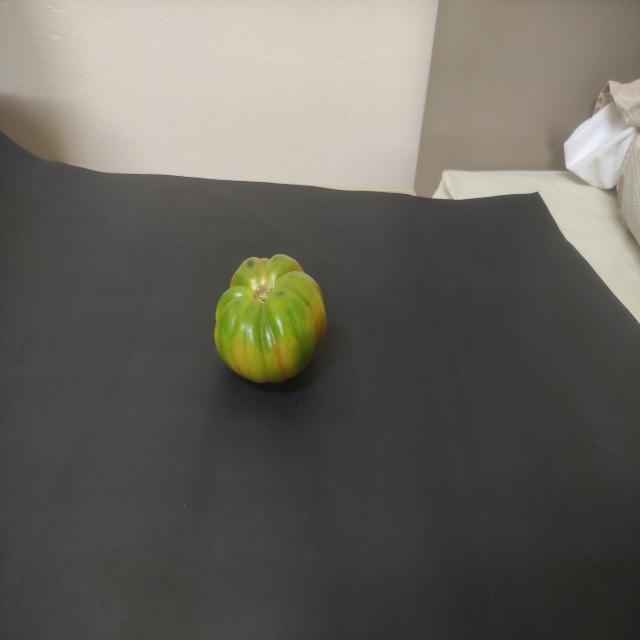yesil: (205, 234, 343, 393)
